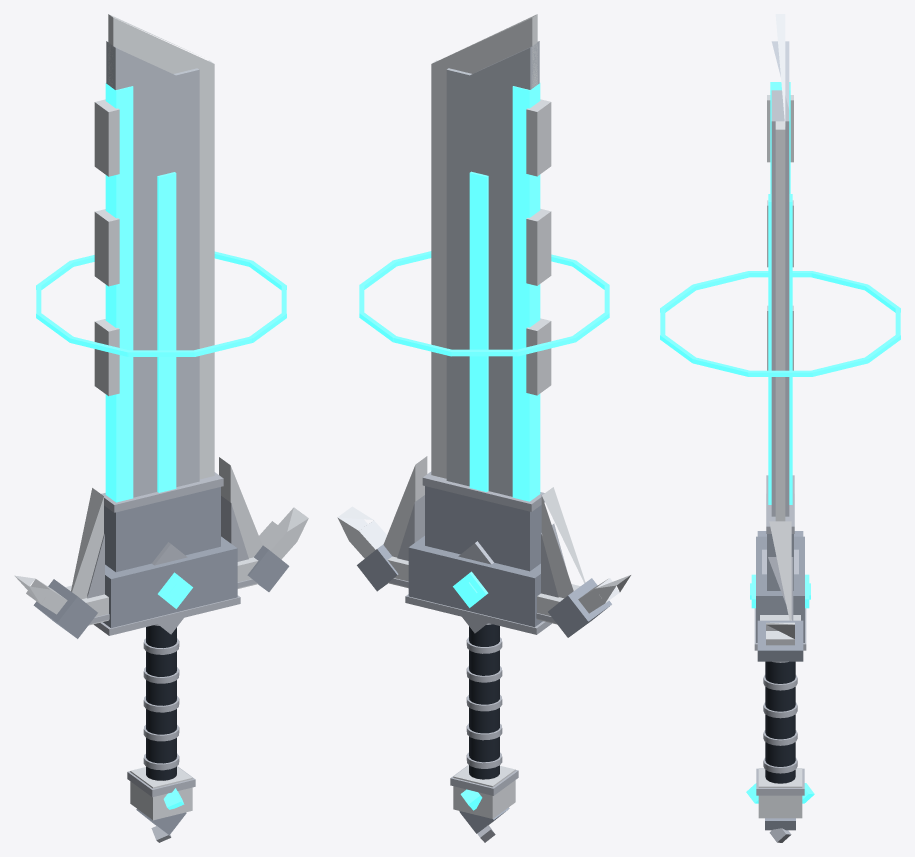
The picture shows the model from 3 angles, left to right: view 1: azimuth 30°, elevation 25°; view 2: azimuth 150°, elevation 25°; view 3: azimuth 270°, elevation 25°; orthographic projection. The views are drawn at different scales.
Visible parts, largest first — view 1: aurora-cleaver; view 2: aurora-cleaver; view 3: aurora-cleaver.
Part boxes in pixels (box(x1,y1,x2,y2)): aurora-cleaver: box(14, 14, 308, 842); aurora-cleaver: box(337, 14, 630, 842); aurora-cleaver: box(660, 14, 900, 842).
Bounding box in the file's own units: 0.5913 × 1.7 × 0.4592.
